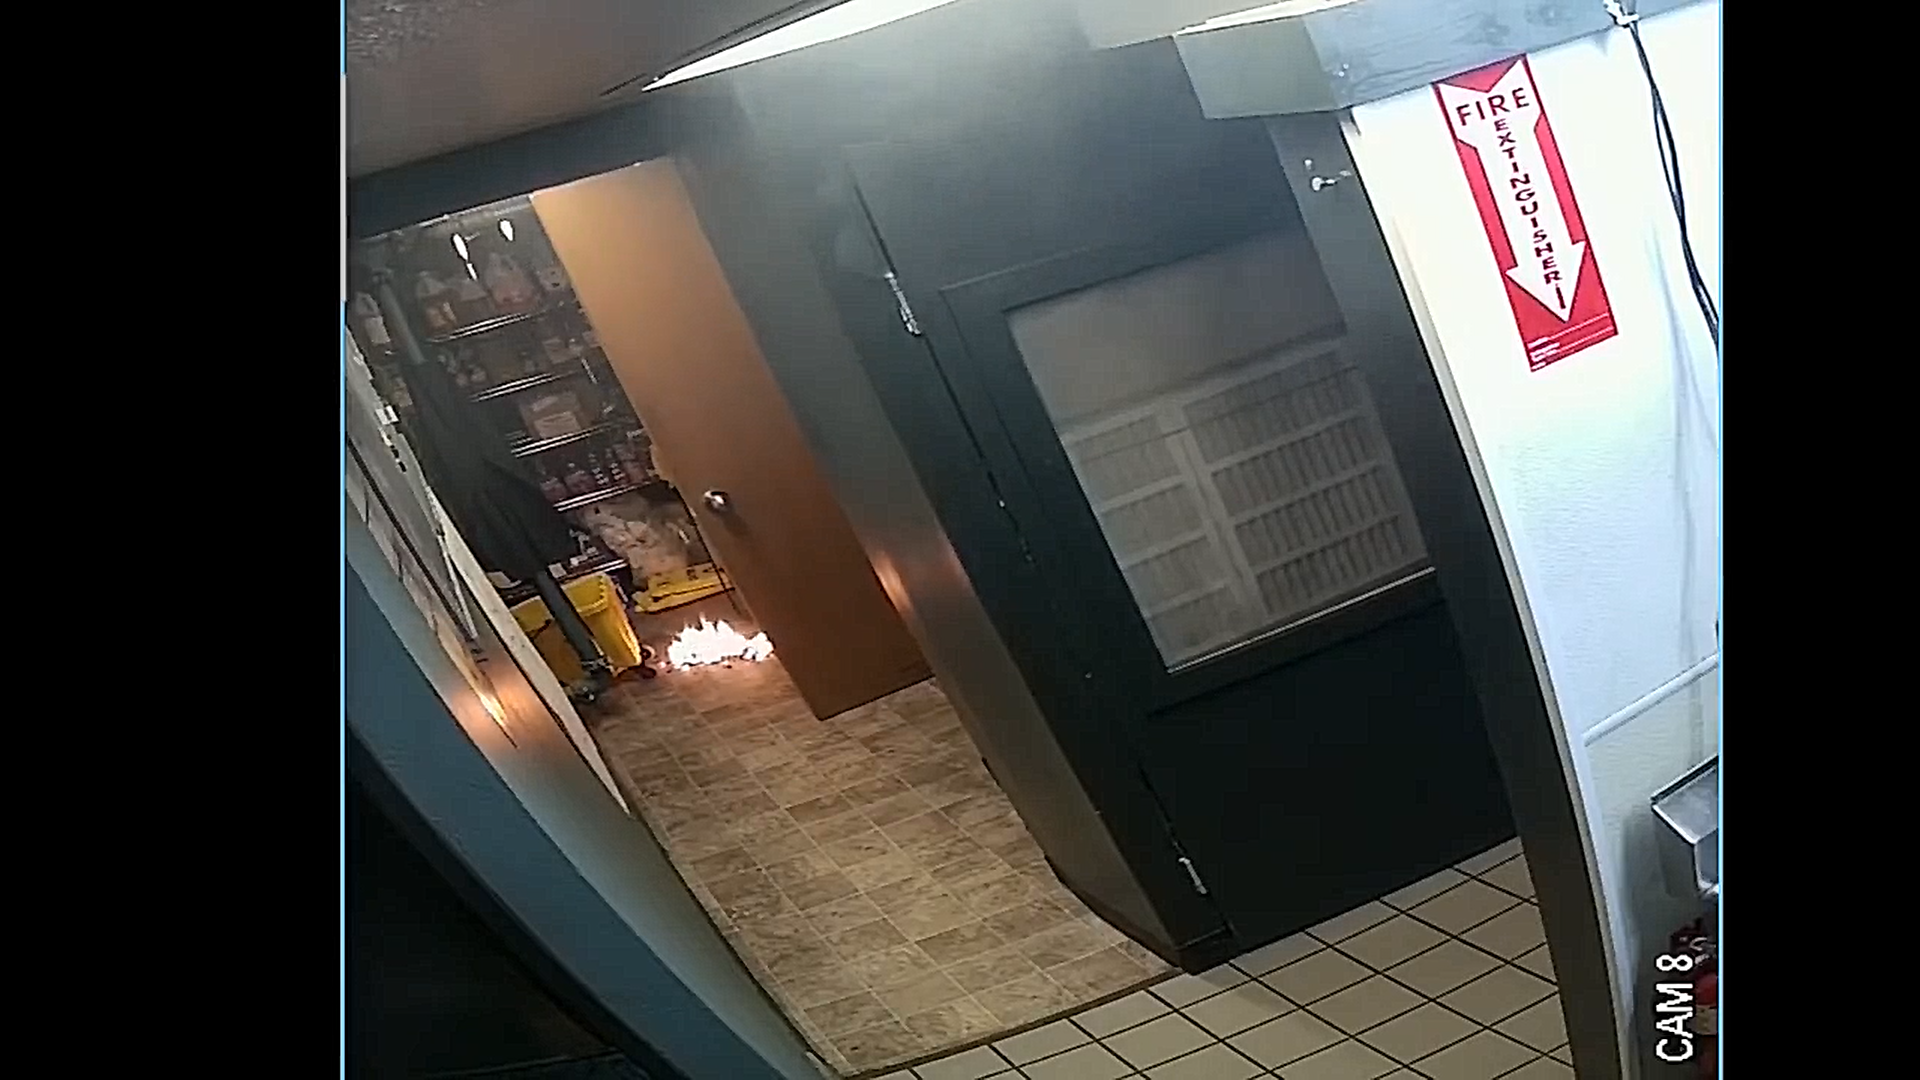fire: (647, 618, 789, 679)
